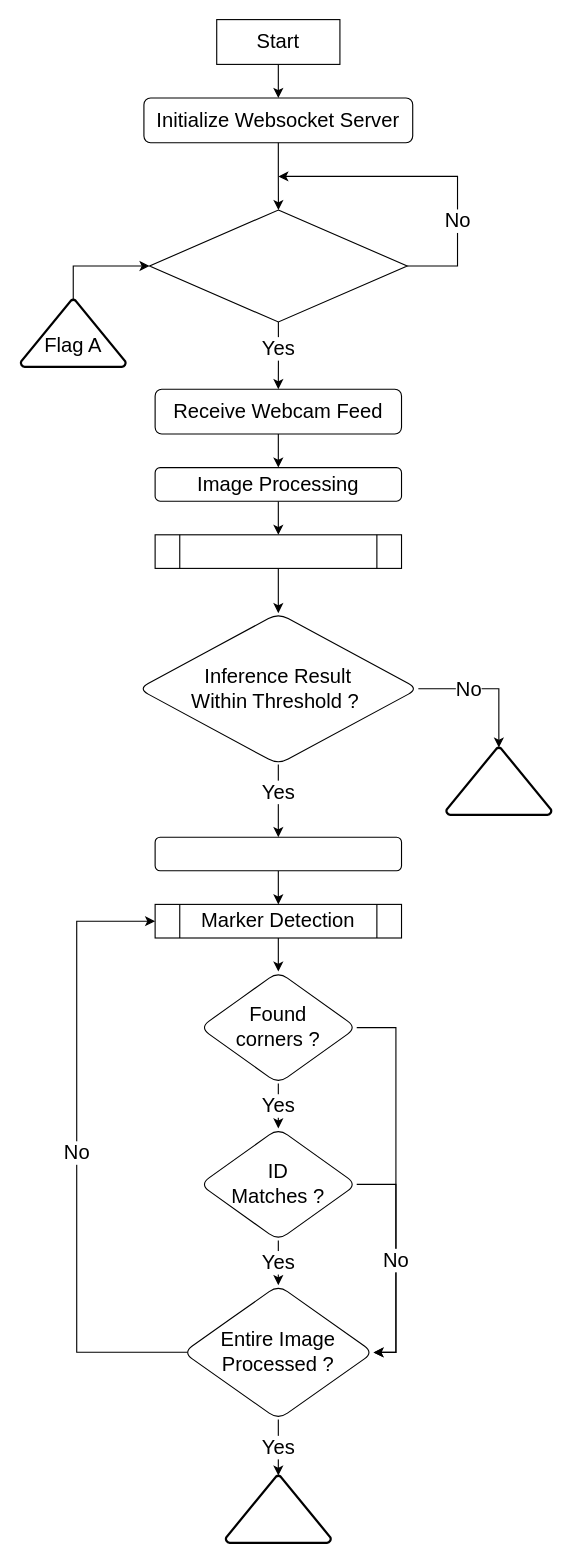
This 571x1564 diagram has some shape labels left out. The centre of each missing label's shape, as x and y in pixels:
Client Connected ?: (277,265)
Flag B: (498,780)
Flag C: (277,1508)
Model Inference: (278,551)
Overlay Result on Frame: (278,853)
